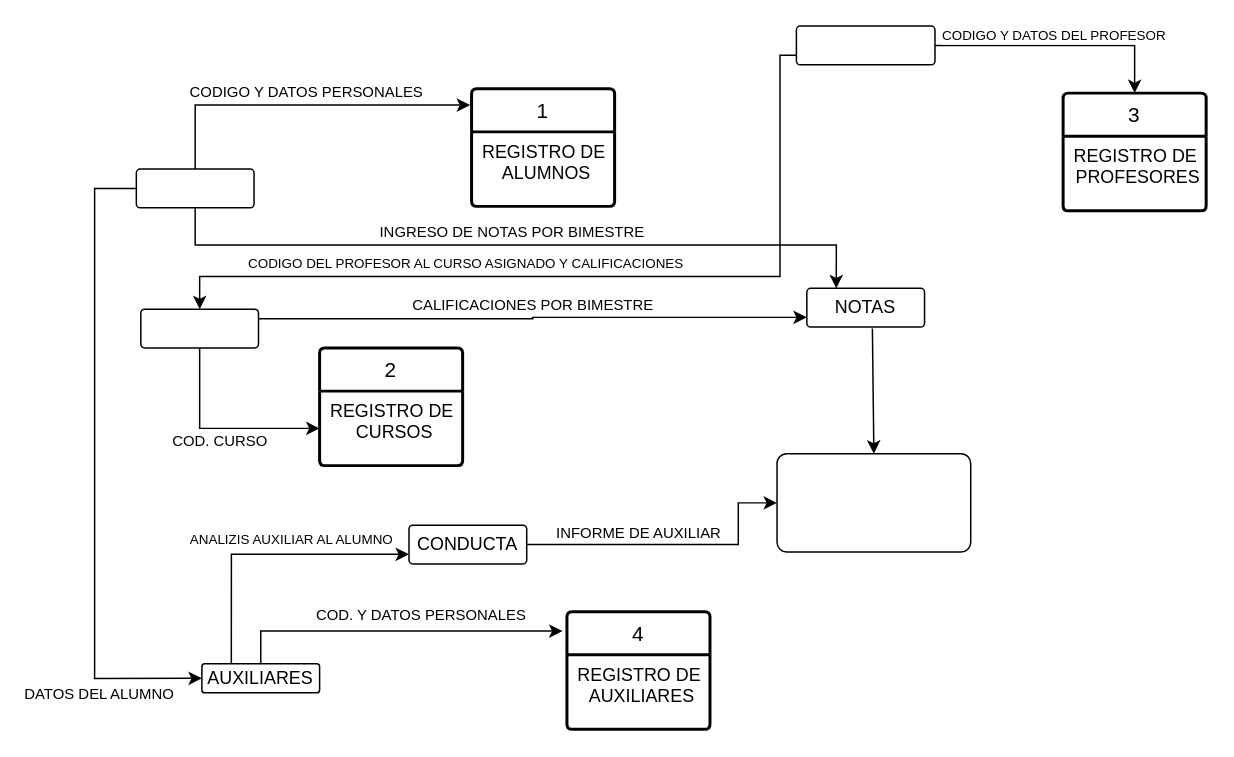
This 1234x757 diagram has some shape labels left out. Here are the shapes that lost their labels. From the top down, the box of each, then its label:
(795, 25, 935, 65): PROFESORES
(135, 168, 254, 208): ALUMNOS
(139, 308, 259, 348): CURSOS
(776, 452, 971, 552): INFORMES Y REPORTES GENERALES
